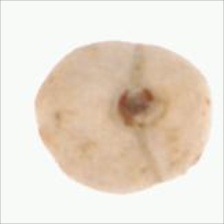L3: (114, 74, 164, 144)
L4: (33, 41, 214, 195)
